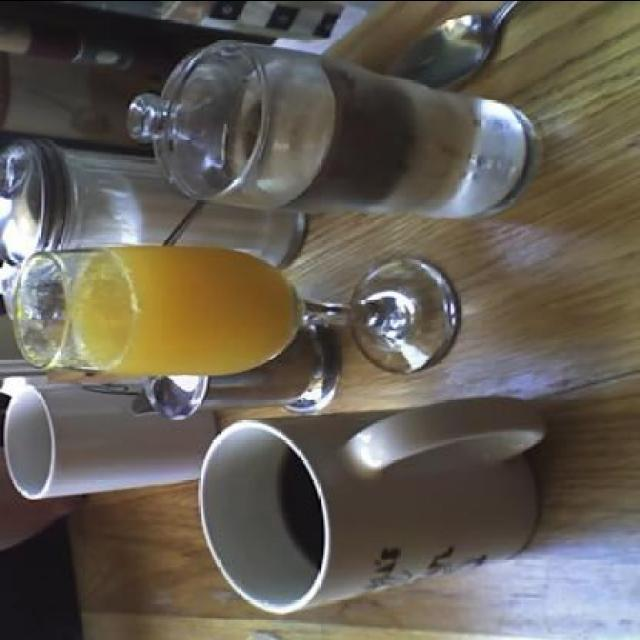Juice: (22, 240, 400, 388)
